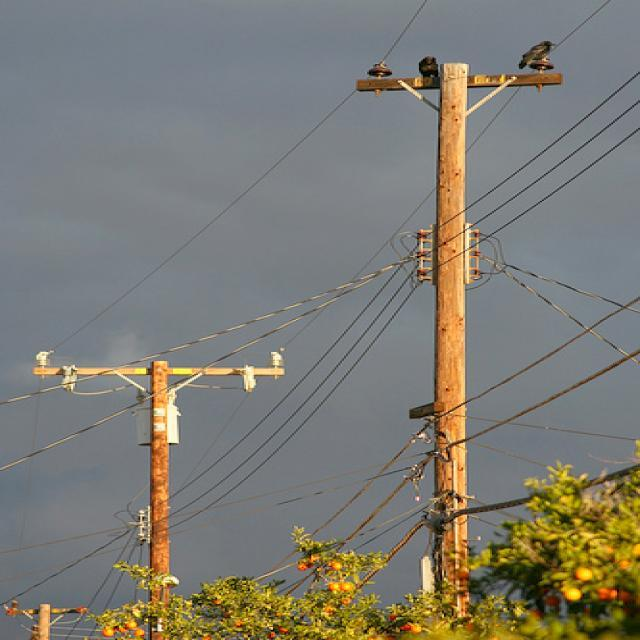crossarm: (356, 73, 568, 92), (33, 366, 286, 375)
pole: (432, 64, 477, 626), (148, 360, 175, 626)
wire: (49, 1, 429, 353), (277, 0, 618, 356), (305, 292, 640, 542), (0, 267, 400, 473), (161, 270, 419, 524), (148, 267, 406, 514), (4, 254, 422, 406), (174, 279, 425, 529), (426, 69, 640, 236), (467, 94, 640, 231), (473, 126, 640, 244), (469, 347, 640, 441), (488, 263, 640, 367), (486, 257, 640, 311)
